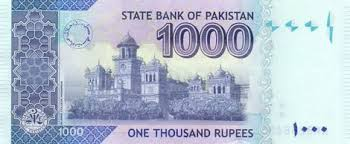1000 rupee: (4, 3, 344, 141)
